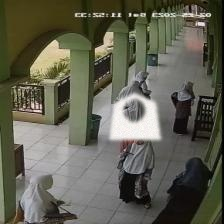Mukena: (108, 93, 161, 139)
